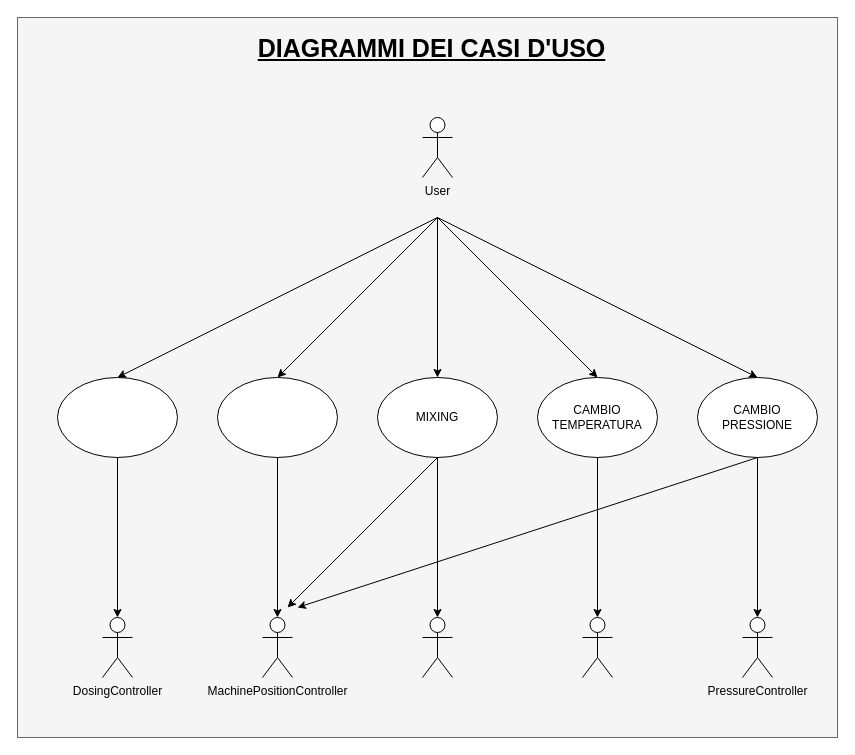
Some shapes in this 855 by 755 pixel diagram are drawn without their labels. The centre of each missing label's shape, as x and y in pixels:
"DOSAGGIO" goes at pixel 117 417.
"MixingController" goes at pixel 437 647.
"POSIZIONAMENTO MACCHINA" goes at pixel 277 417.
"TemperatureController" goes at pixel 597 647.
